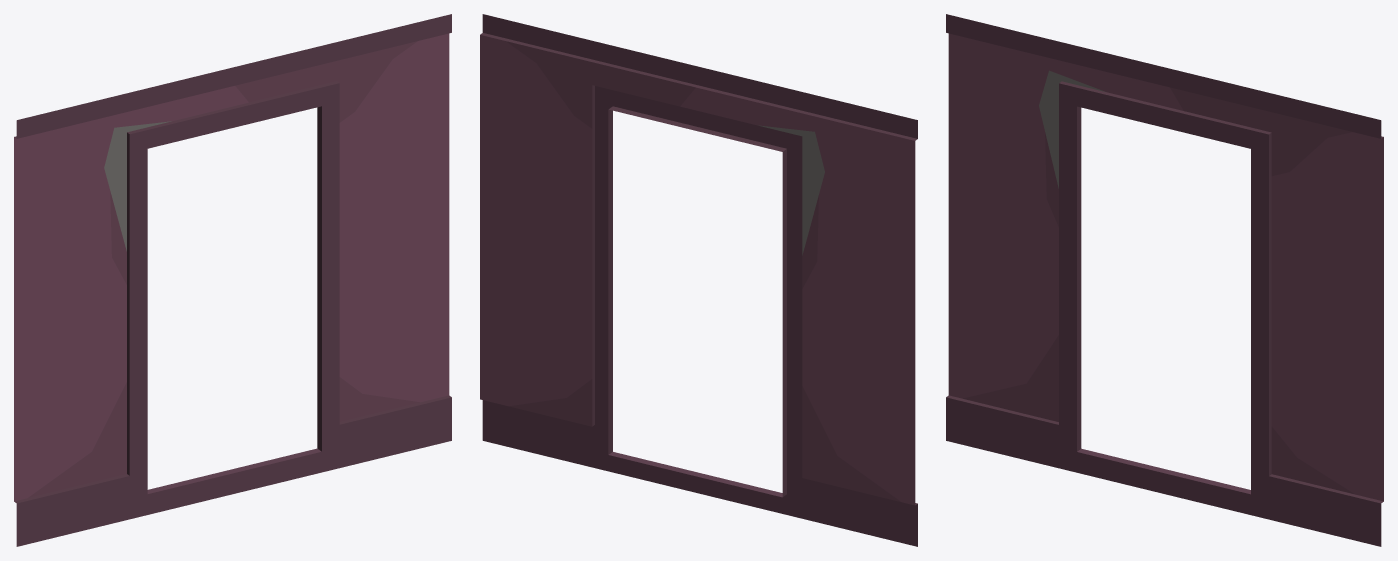
The model's file is AI_Env_Wall_Pink_Doorway.fbx.
3 renders of one model, left to right at view 1: azimuth 30°, elevation 25°; view 2: azimuth 150°, elevation 25°; view 3: azimuth 330°, elevation 25°, orthographic.
Parts seen in each view (by area): view 1: AI_Env_Wall_Pink_Doorway; view 2: AI_Env_Wall_Pink_Doorway; view 3: AI_Env_Wall_Pink_Doorway.
Boxes of the visible parts, x1,y1,x2,y2 form: AI_Env_Wall_Pink_Doorway: [14, 14, 451, 546]; AI_Env_Wall_Pink_Doorway: [480, 14, 917, 546]; AI_Env_Wall_Pink_Doorway: [946, 14, 1383, 546].
Bounding box in the file's own units: 5 × 4.69 × 0.0885.
